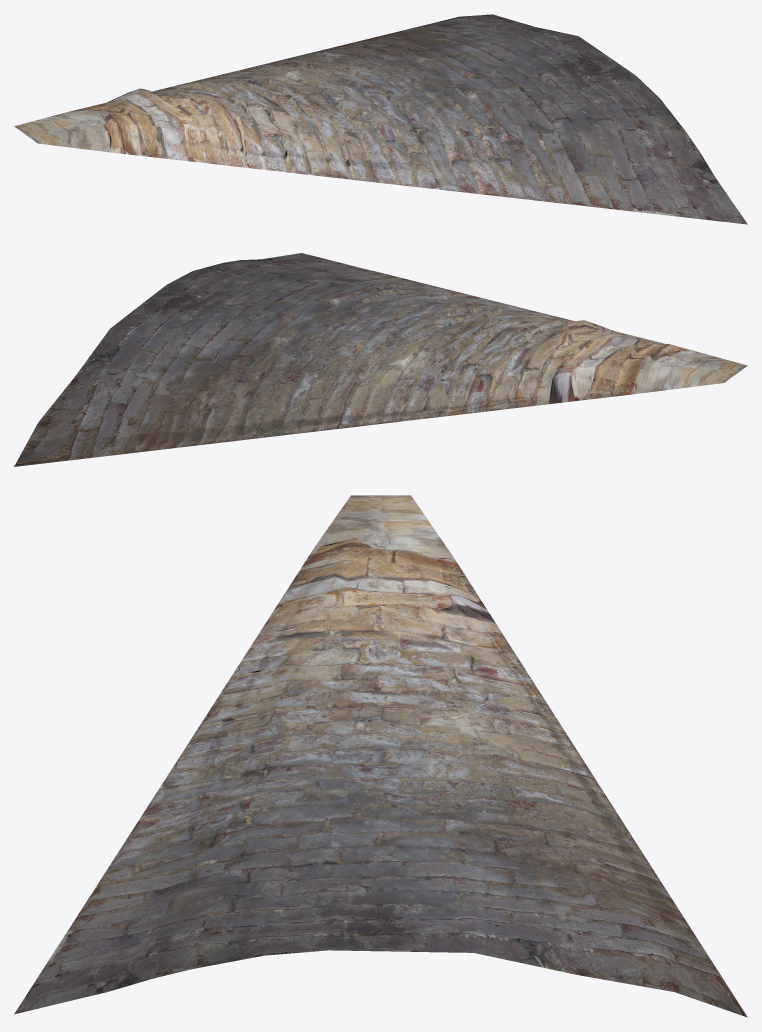
The model's file is sm_CryptCeiling_02_04.fbx.
3 renders of one model, top to bottom at view 1: azimuth 30°, elevation 25°; view 2: azimuth 150°, elevation 25°; view 3: azimuth 270°, elevation 25°, orthographic. The views are drawn at different scales.
Parts seen in each view (by area): view 1: sm_CryptCeiling_02_04_LOD0; view 2: sm_CryptCeiling_02_04_LOD0; view 3: sm_CryptCeiling_02_04_LOD0.
Part boxes in pixels (x1,y1,x2,y2): sm_CryptCeiling_02_04_LOD0: (14, 14, 747, 224); sm_CryptCeiling_02_04_LOD0: (14, 253, 747, 466); sm_CryptCeiling_02_04_LOD0: (14, 495, 747, 1017).
Size of the model in its own units: 300 by 254 by 63.37.
